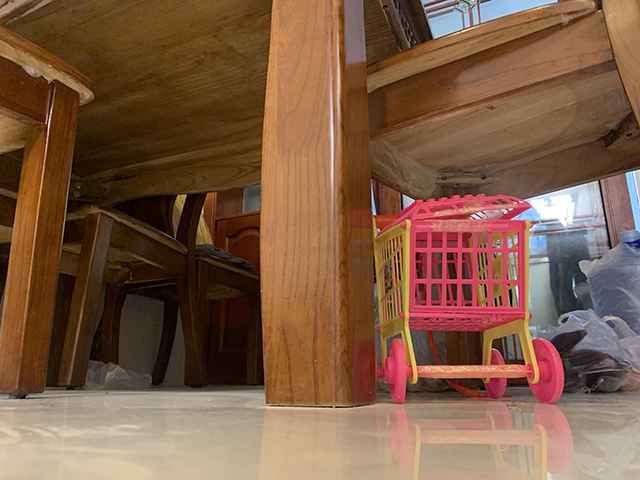stool: (366, 1, 640, 201), (1, 23, 96, 400), (54, 190, 209, 390)
table: (1, 1, 433, 408)
